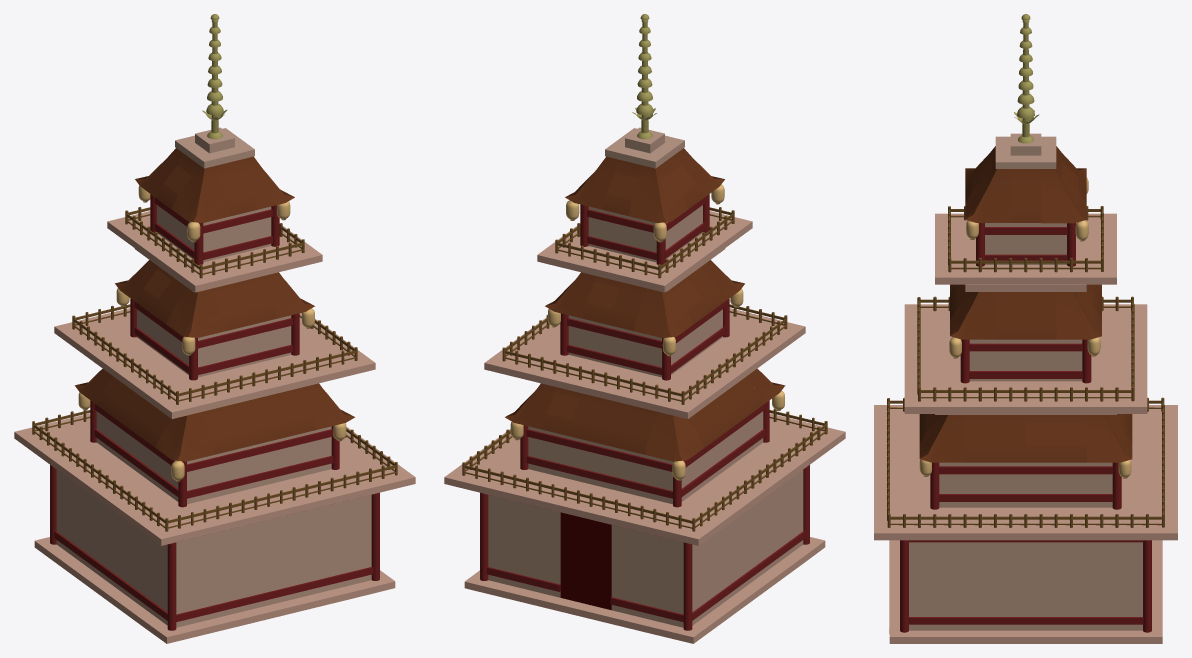
The model's file is Castillo2 1.fbx.
3 renders of one model, left to right at view 1: azimuth 30°, elevation 25°; view 2: azimuth 150°, elevation 25°; view 3: azimuth 270°, elevation 25°, orthographic. The views are drawn at different scales.
Visible parts, largest first — view 1: polySurface1824; view 2: polySurface1824; view 3: polySurface1824.
Boxes of the visible parts, x1,y1,x2,y2 form: polySurface1824: [14, 14, 415, 643]; polySurface1824: [444, 14, 845, 643]; polySurface1824: [874, 14, 1177, 643].
Bounding box in the file's own units: 80.3 × 167 × 80.29.
